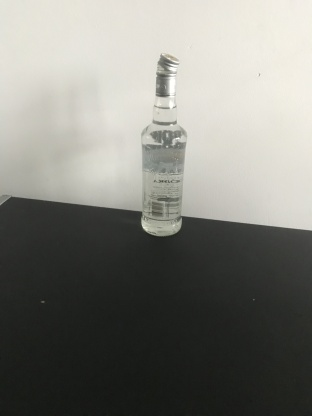nakretka: (153, 50, 180, 98)
